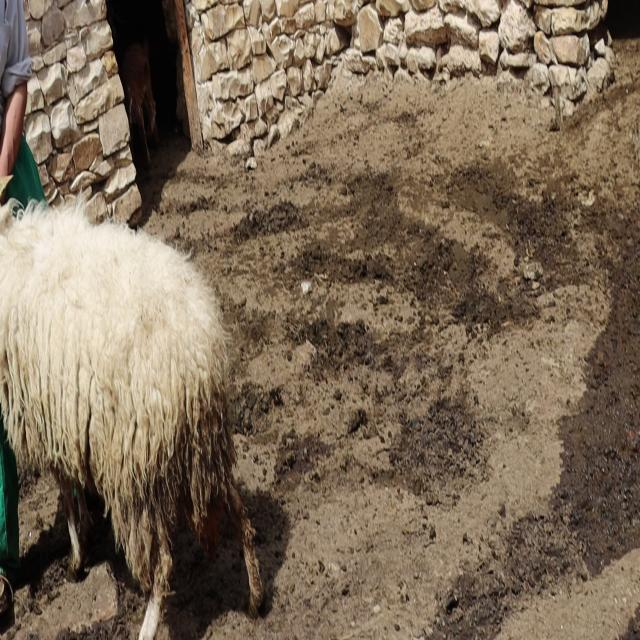Score_4: (0, 200, 264, 639)
